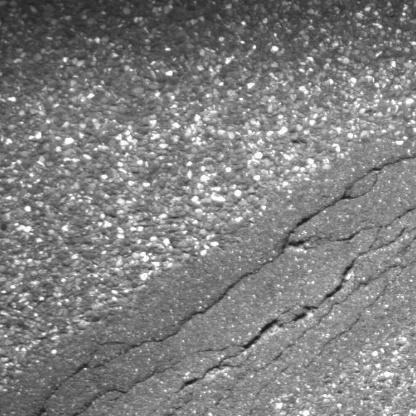Cracks: (56, 148, 416, 393), (250, 189, 416, 377), (122, 317, 287, 416), (15, 364, 177, 416)
